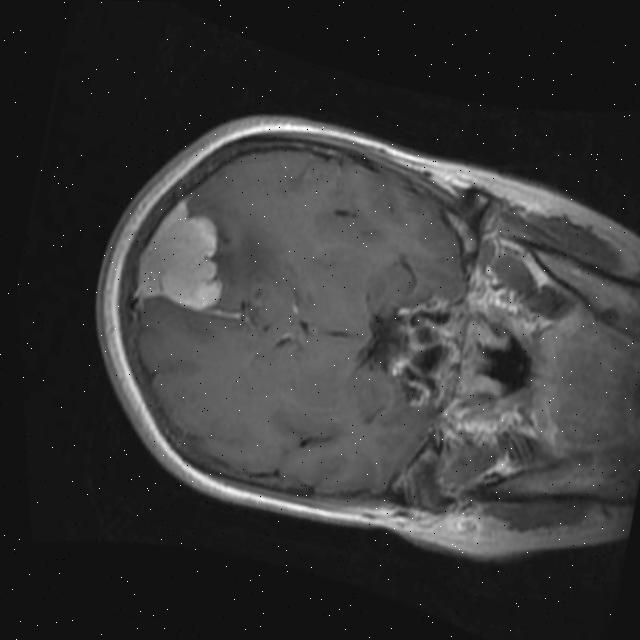Meningioma: (124, 189, 244, 316)
